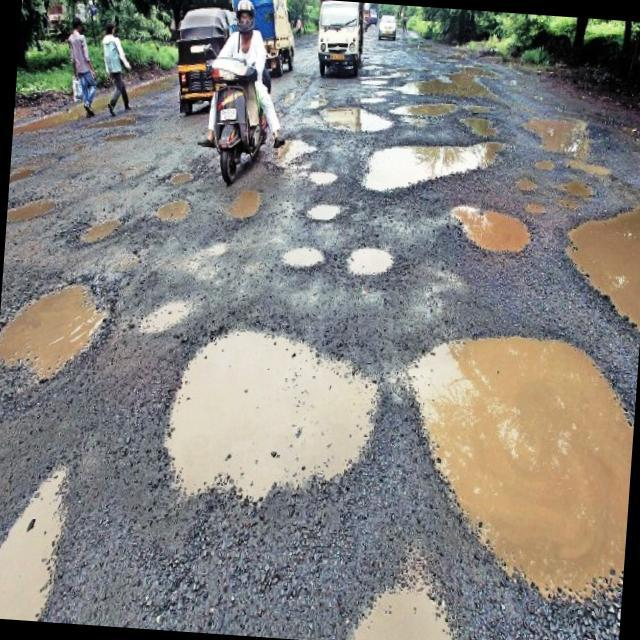Pothole: (371, 288, 640, 614), (148, 294, 398, 544), (0, 255, 122, 410), (322, 529, 489, 640), (0, 434, 85, 623), (549, 187, 640, 342), (436, 183, 548, 280), (396, 52, 528, 116), (336, 227, 418, 317), (306, 82, 402, 146), (131, 263, 205, 345), (266, 226, 336, 296), (522, 100, 598, 158), (212, 176, 272, 240), (266, 117, 325, 175), (387, 91, 465, 130), (7, 188, 67, 236), (76, 202, 128, 256), (459, 104, 515, 154), (560, 142, 618, 190), (9, 132, 54, 193), (154, 182, 198, 242), (298, 188, 350, 232), (156, 148, 202, 194), (558, 167, 598, 207), (104, 99, 151, 131), (96, 124, 150, 151), (301, 162, 343, 192), (378, 54, 418, 85), (520, 190, 552, 221), (510, 166, 541, 198), (530, 144, 556, 179), (364, 48, 390, 75), (358, 77, 392, 96)
